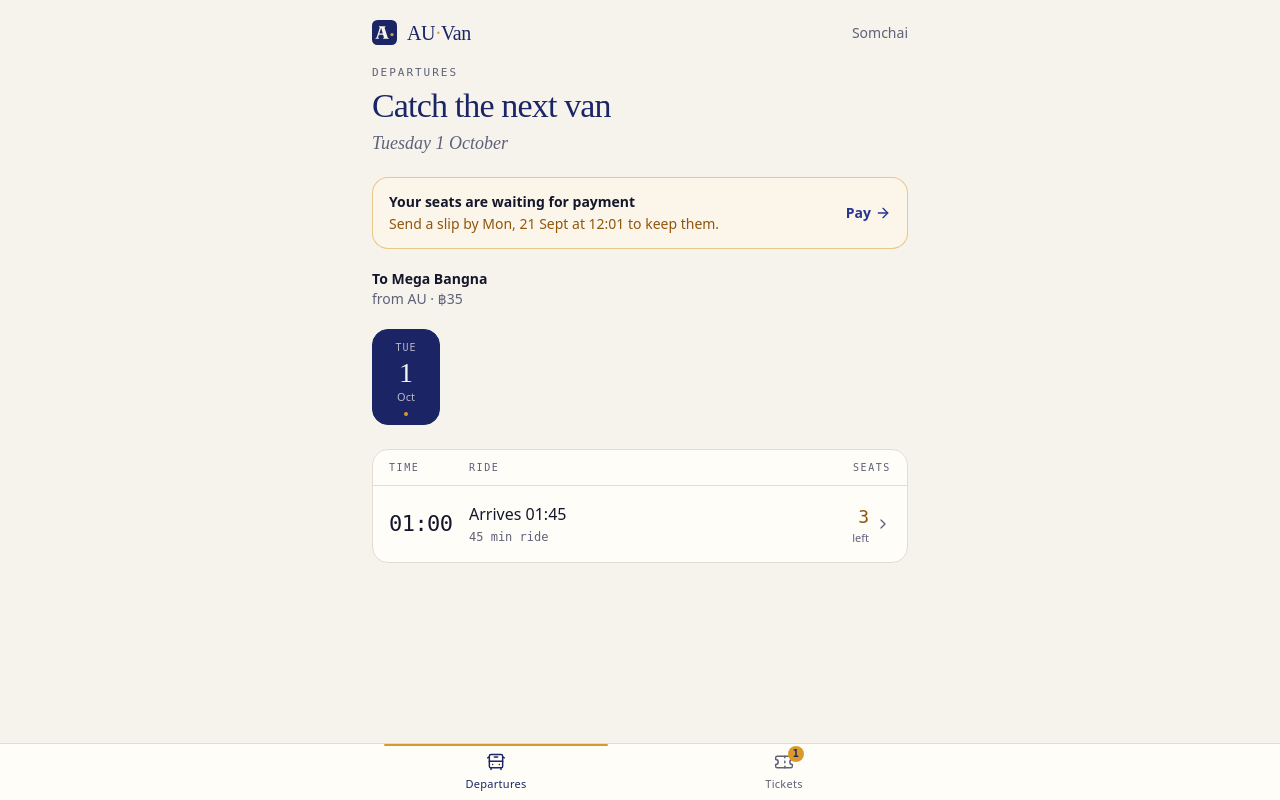
Test case: Student fair-booking rules › takes a student with an unpaid booking to the ticket that needs paying
The image size is (1280, 800).
Click the button with aria-label "Mega Bangna" at (421, 524), box 373,486 -> 907,562
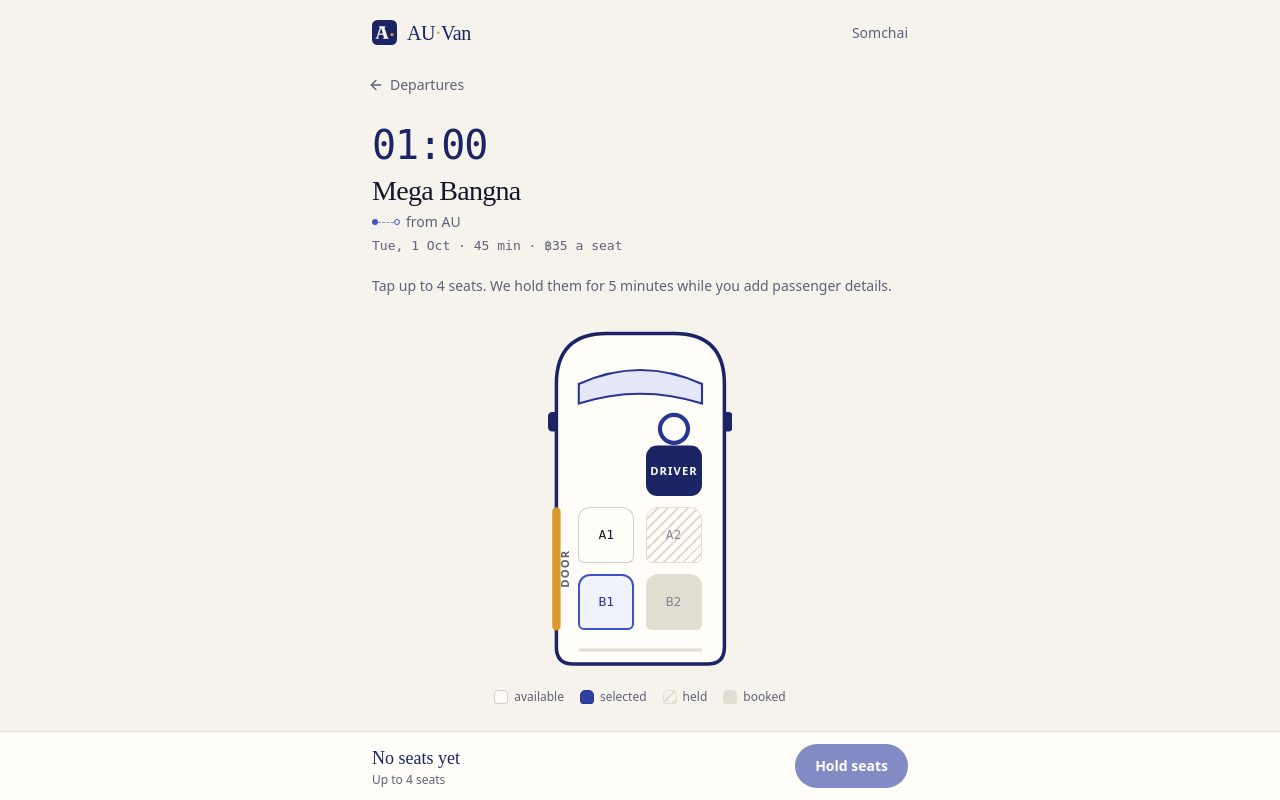
Click the button named "Seat A1, available" at (606, 535), box 578,507 -> 634,563
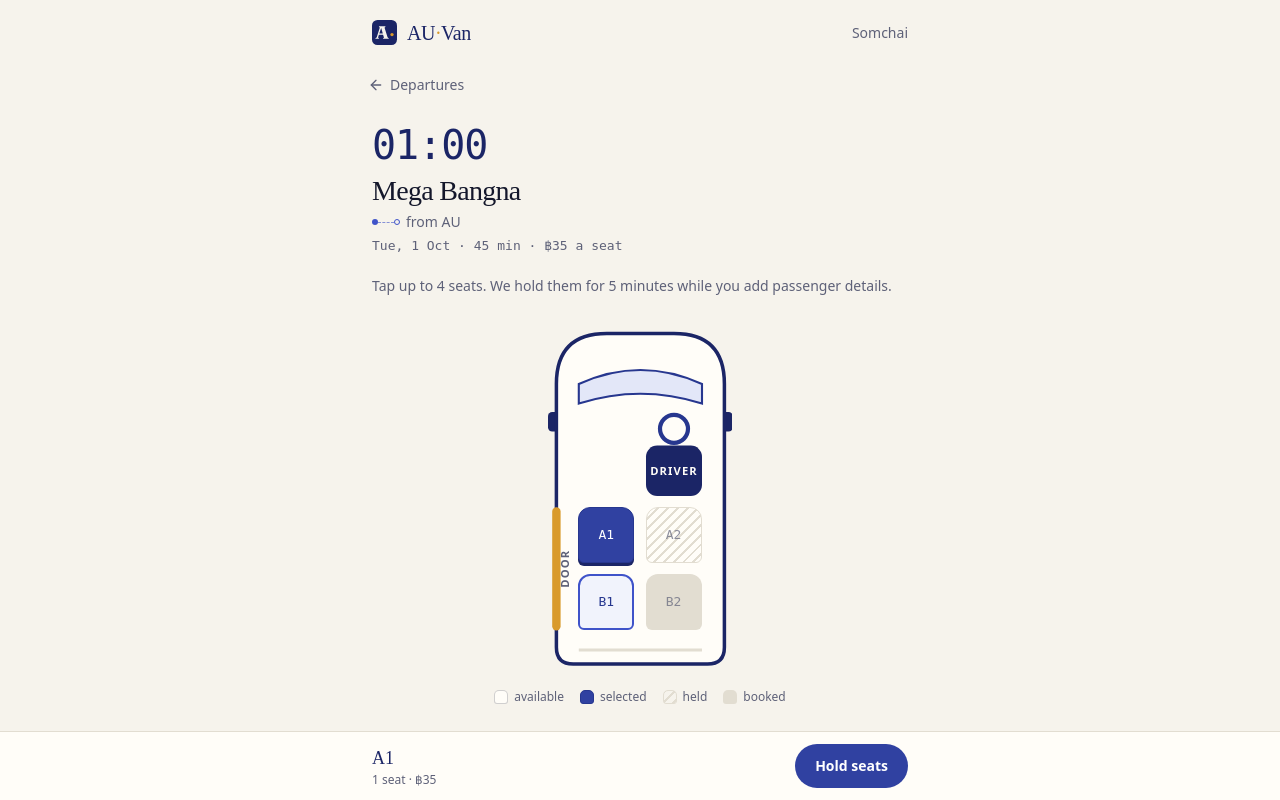
Click the button "Hold seats" at (852, 766), box 795,744 -> 908,788
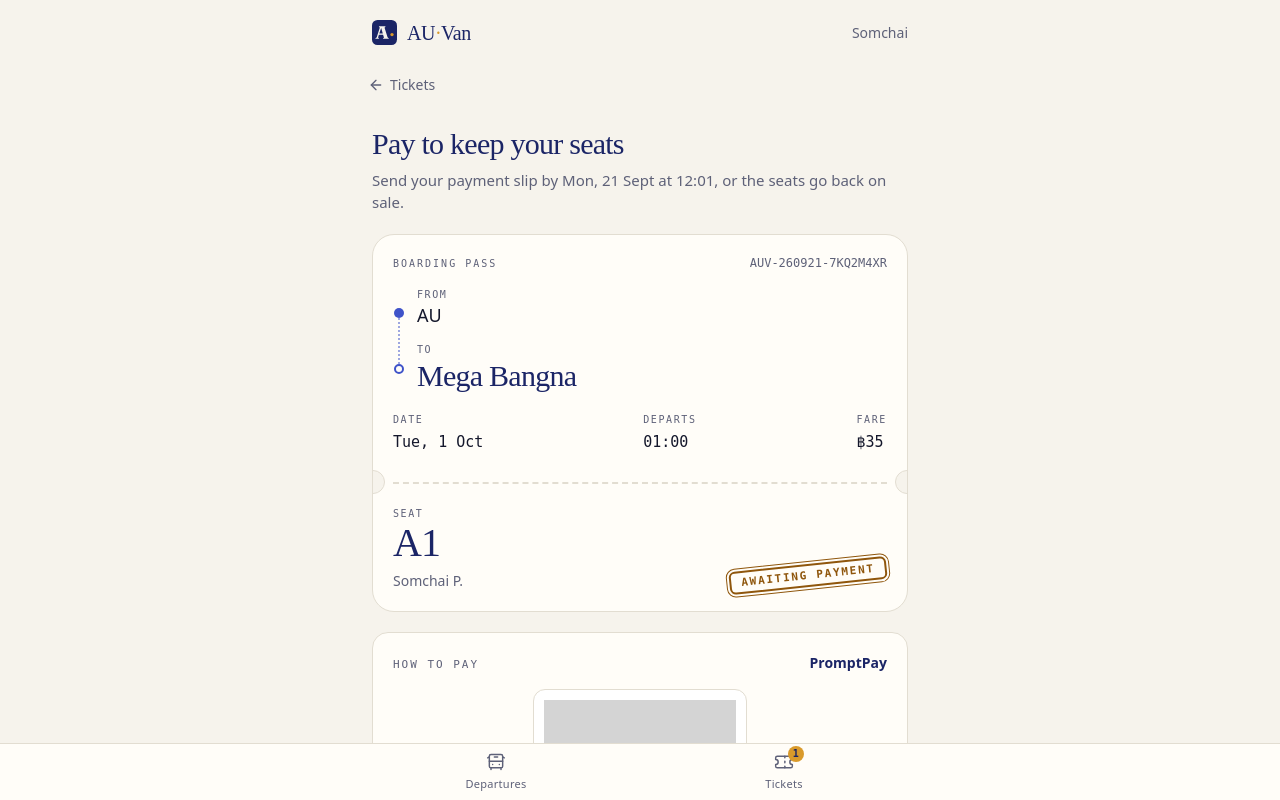
Expected: the heading "Pay to keep your seats" is shown, 372,127 -> 624,160
